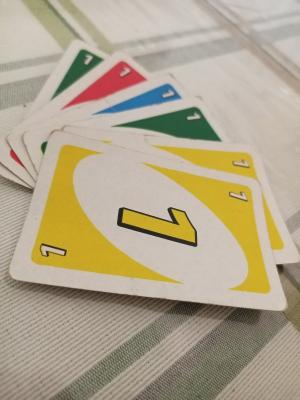blue: (141, 83, 179, 103)
num_1: (34, 233, 80, 270), (73, 43, 98, 74)
yellow: (166, 148, 258, 177)
